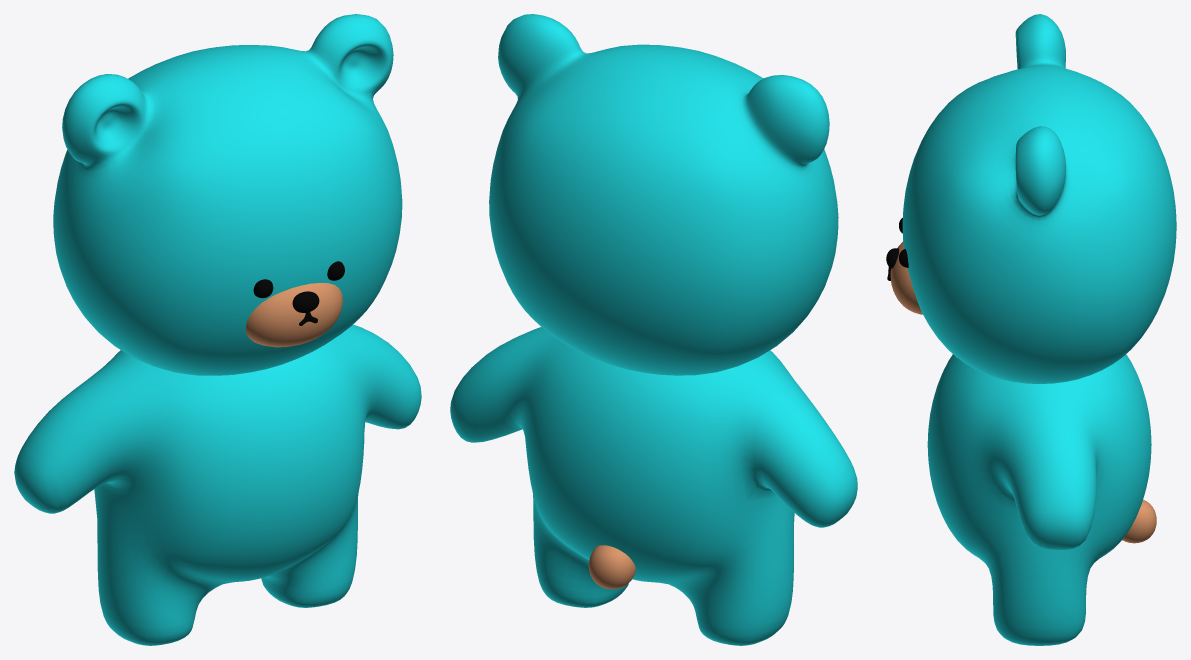
The model's file is bear.gltf.
The picture shows the model from 3 angles, left to right: view 1: azimuth 30°, elevation 25°; view 2: azimuth 150°, elevation 25°; view 3: azimuth 270°, elevation 25°; orthographic projection. The views are drawn at different scales.
Visible parts, largest first — view 1: 頭, 体, 顔, 目; view 2: 頭, 体, 尻尾; view 3: 頭, 体, 顔, 尻尾.
Part boxes in pixels (x1,y1,x2,y2): 頭: (53,14,402,375); 体: (14,324,421,645); 顔: (245,283,342,347); 目: (253,261,344,298); 頭: (489,14,838,375); 体: (450,327,857,645); 尻尾: (588,545,635,589); 頭: (902,14,1176,383); 体: (927,354,1151,645); 顔: (890,241,922,314); 尻尾: (1122,499,1156,543).
Size of the model in its own units: 1.97 by 2.71 by 1.36.
